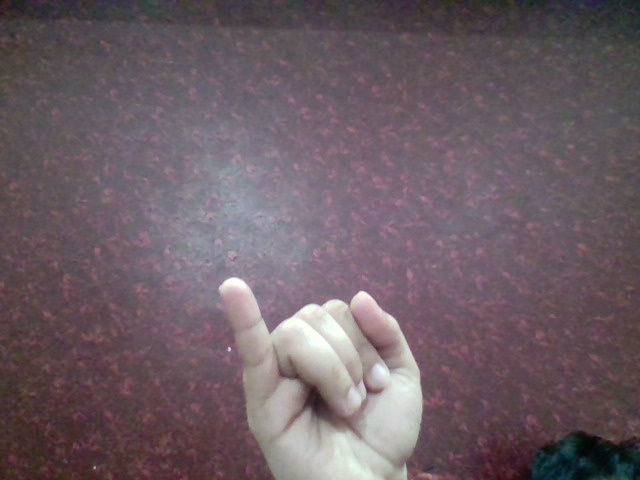j: (204, 265, 440, 473)
